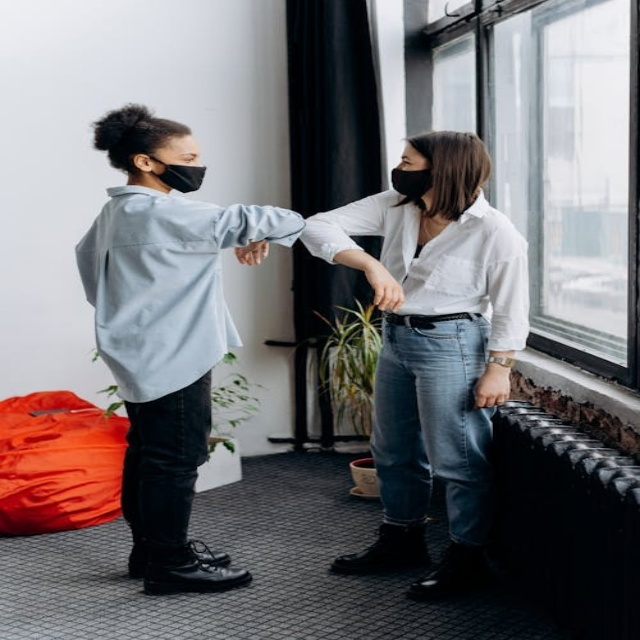Mascara: (146, 156, 206, 193), (390, 166, 434, 202)
Sin_gafas: (166, 148, 205, 162), (396, 154, 417, 166)
Sin_guantes: (342, 253, 411, 312), (460, 352, 522, 408), (230, 232, 275, 268)
